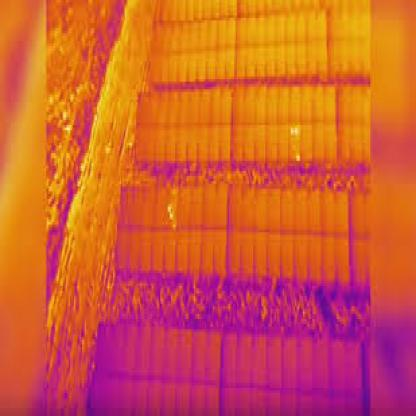Defects: (290, 122, 302, 164), (167, 202, 179, 232)
